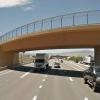Bridge: (2, 12, 99, 63)
